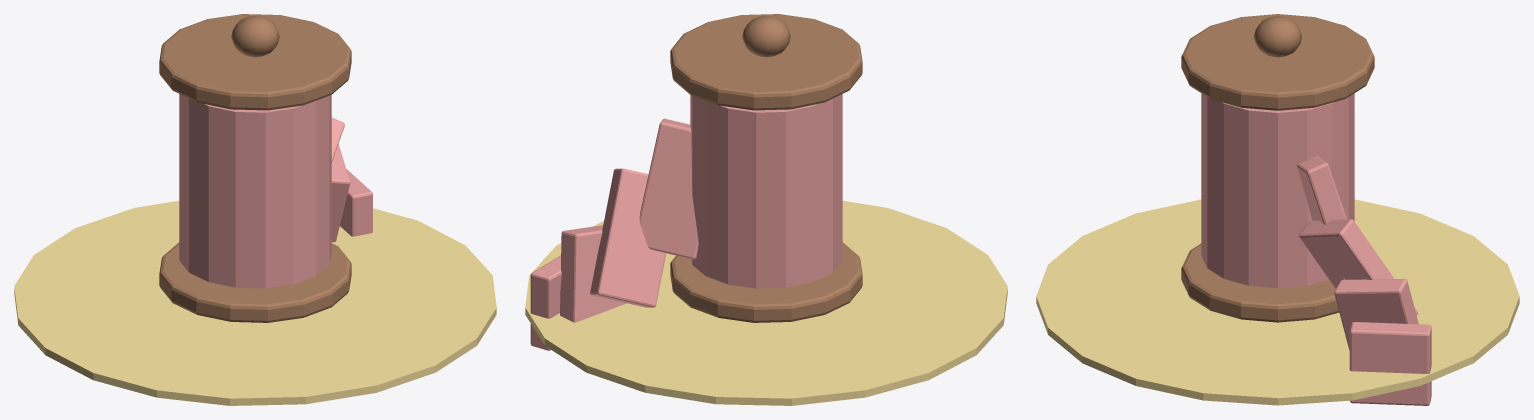
File: silk-ribbon-spool.glb
The picture shows the model from 3 angles, left to right: view 1: azimuth 30°, elevation 25°; view 2: azimuth 150°, elevation 25°; view 3: azimuth 270°, elevation 25°; orthographic projection.
Parts seen in each view (by area): view 1: spool_Glow, spool_Ribbon, spool_FlangeTop, spool_FlangeBottom, spool_Knob, spool_Tail_3, spool_Tail_2; view 2: spool_Glow, spool_Ribbon, spool_FlangeTop, spool_FlangeBottom, spool_Tail_1, spool_Tail_0, spool_Tail_2, spool_Tail_3, spool_Knob; view 3: spool_Glow, spool_Ribbon, spool_FlangeTop, spool_FlangeBottom, spool_Tail_3, spool_Tail_1, spool_Tail_2, spool_Tail_0, spool_Knob.
Part boxes in pixels (x1,y1,x2,y2): spool_Glow: (14,200,496,405); spool_Ribbon: (179,94,331,288); spool_FlangeTop: (159,14,351,110); spool_FlangeBottom: (159,242,351,322); spool_Knob: (231,15,279,57); spool_Tail_3: (340,169,372,236); spool_Tail_2: (331,144,350,242); spool_Glow: (525,200,1007,405); spool_Ribbon: (690,94,842,288); spool_FlangeTop: (670,14,862,110); spool_FlangeBottom: (670,242,862,322); spool_Tail_1: (590,168,666,307); spool_Tail_0: (639,118,698,259); spool_Tail_2: (560,225,626,322); spool_Tail_3: (530,255,561,350); spool_Knob: (742,15,790,57); spool_Glow: (1036,199,1519,405); spool_Ribbon: (1201,93,1354,288); spool_FlangeTop: (1181,14,1374,110); spool_FlangeBottom: (1181,243,1339,322); spool_Tail_3: (1349,322,1431,405); spool_Tail_1: (1299,219,1417,315); spool_Tail_2: (1334,278,1418,350); spool_Tail_0: (1297,156,1346,279); spool_Knob: (1254,16,1301,57).
Bounding box in the file's own units: 0.6 × 0.4272 × 0.6.
